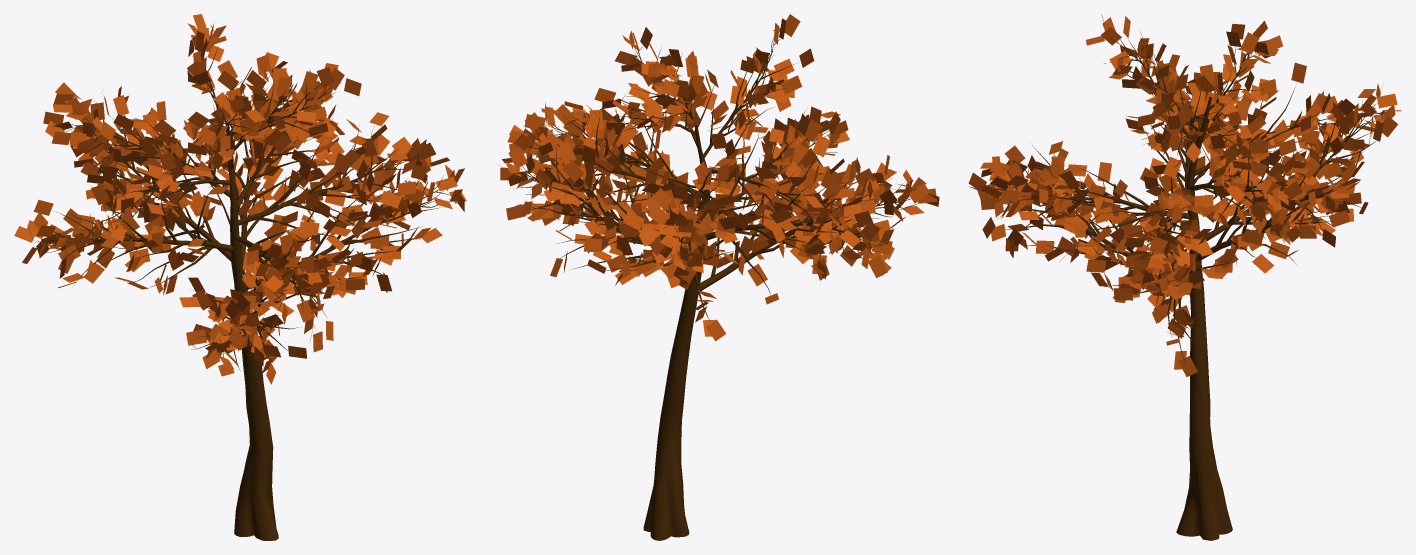
File: tree_03.FBX
The picture shows the model from 3 angles, left to right: view 1: azimuth 30°, elevation 25°; view 2: azimuth 150°, elevation 25°; view 3: azimuth 270°, elevation 25°; orthographic projection. The views are drawn at different scales.
Visible parts, largest first — view 1: Foliage001; view 2: Foliage001; view 3: Foliage001.
Boxes of the visible parts, x1,y1,x2,y2 form: Foliage001: (14,14,466,540); Foliage001: (499,14,939,540); Foliage001: (968,14,1401,540).
Size of the model in its own units: 71.24 by 81.58 by 64.96.
